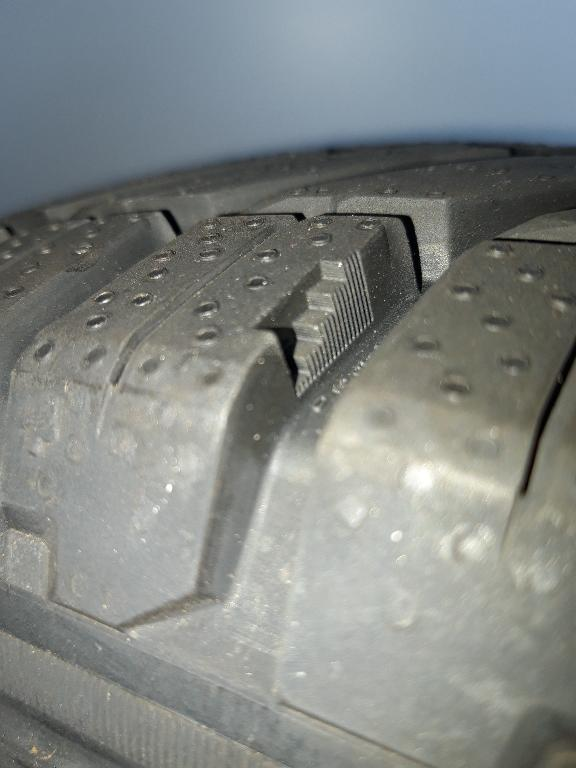temoin:100: (246, 244, 380, 404)
